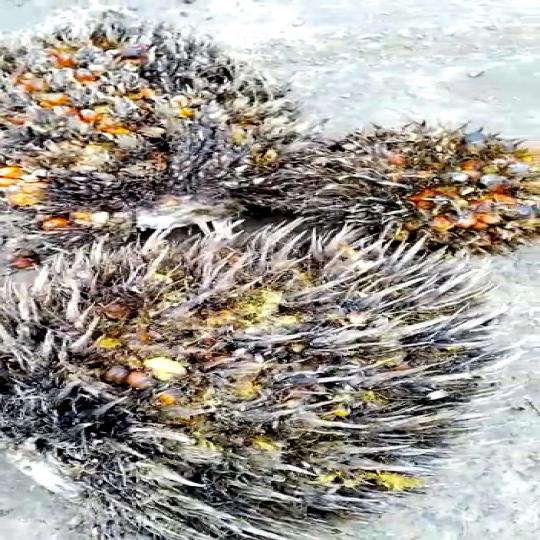terlalu masak: (0, 221, 513, 540), (0, 31, 285, 232), (268, 130, 540, 253)
